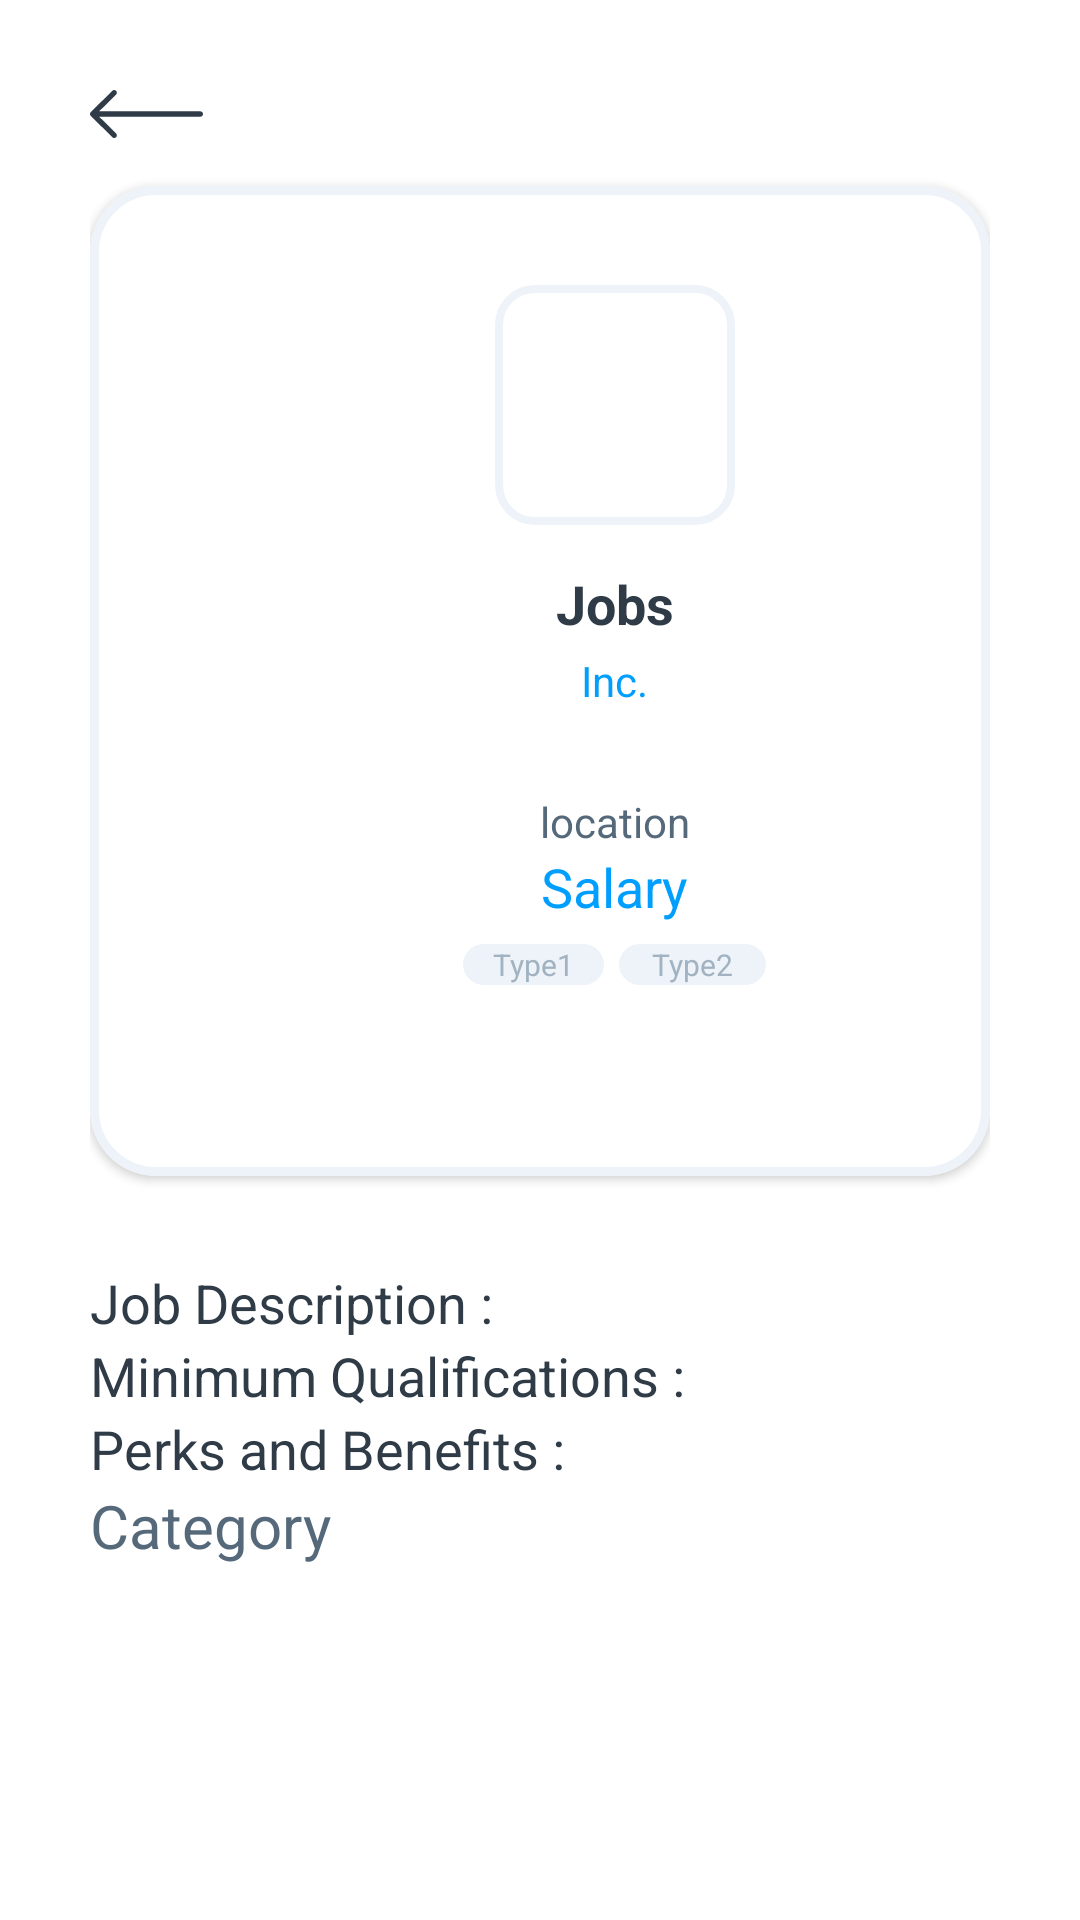

Named icons in this screenshot (1080px x 1920px) and their bounding boxes, rect(x1, y1, x2, y2):
backward: rect(90, 90, 203, 138)
